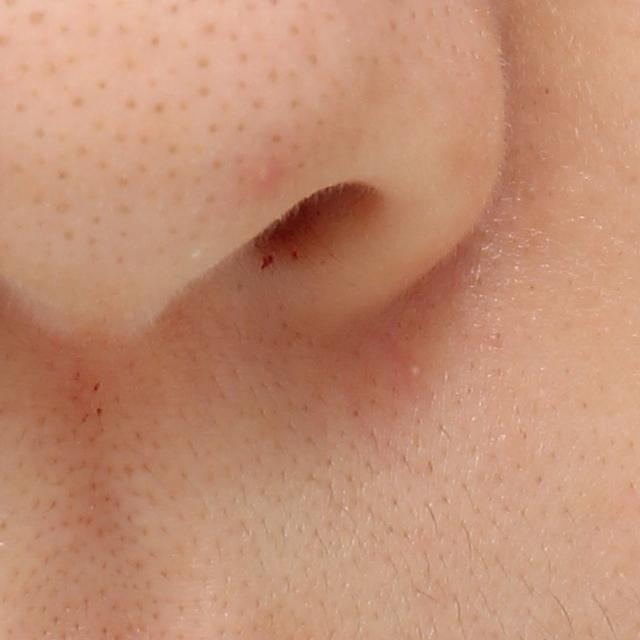papule: (256, 159, 284, 192)
pustule: (403, 361, 425, 381)
